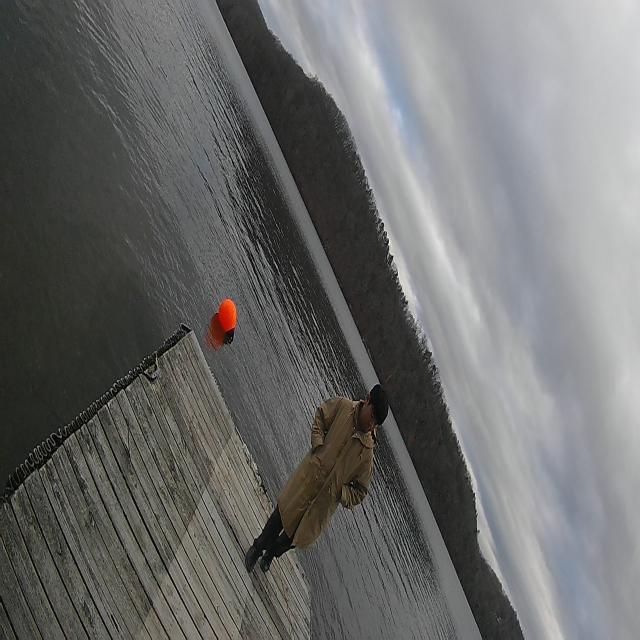Buoy: (216, 296, 239, 349)
